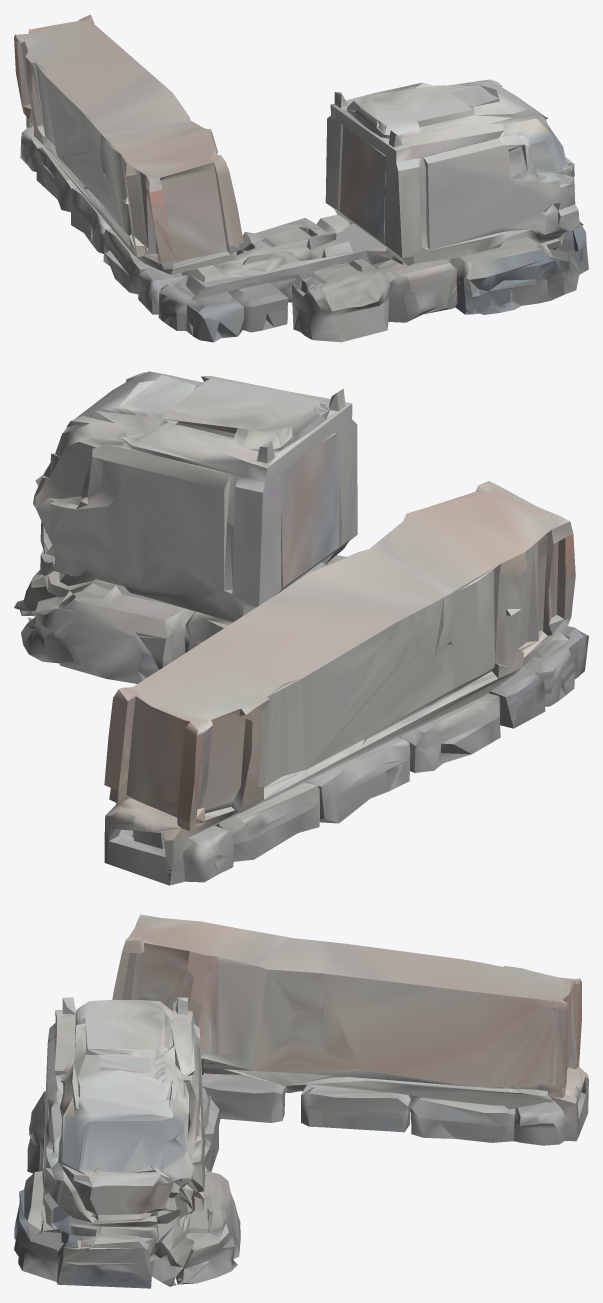
File: k06_far.glb
3 views of the same model, one above another, from view 1: azimuth 30°, elevation 25°; view 2: azimuth 150°, elevation 25°; view 3: azimuth 270°, elevation 25° (orthographic). The views are drawn at different scales.
Visible parts, largest first — view 1: k06_far; view 2: k06_far; view 3: k06_far.
Boxes of the visible parts, x1,y1,x2,y2 form: k06_far: [14, 14, 588, 342]; k06_far: [14, 371, 588, 885]; k06_far: [14, 914, 588, 1288].
Size of the model in its own units: 18.37 by 8 by 21.25.
Materials: 1 (1 with a texture image).
